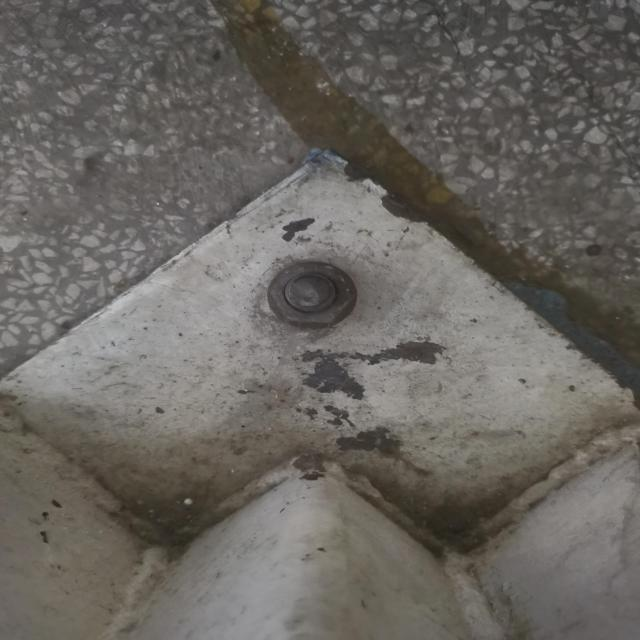bolt nut: (264, 262, 352, 326)
